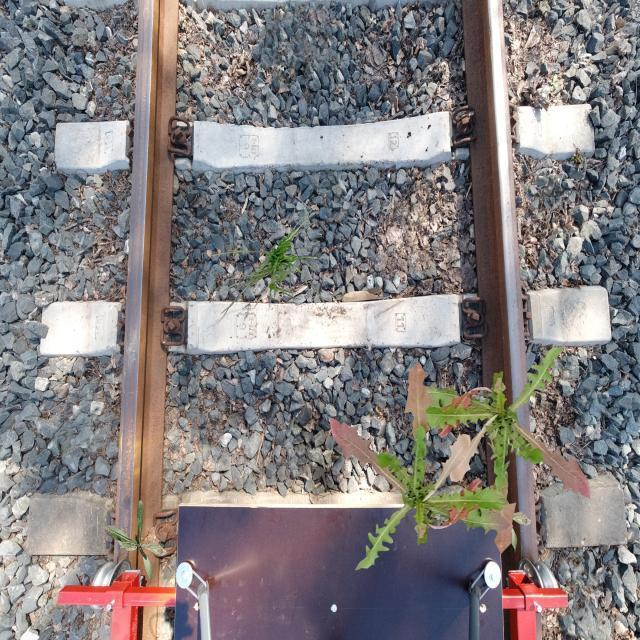Plant: (411, 346, 591, 554), (330, 362, 510, 570), (209, 204, 328, 326), (469, 470, 533, 554), (105, 500, 169, 584), (487, 419, 528, 473)
